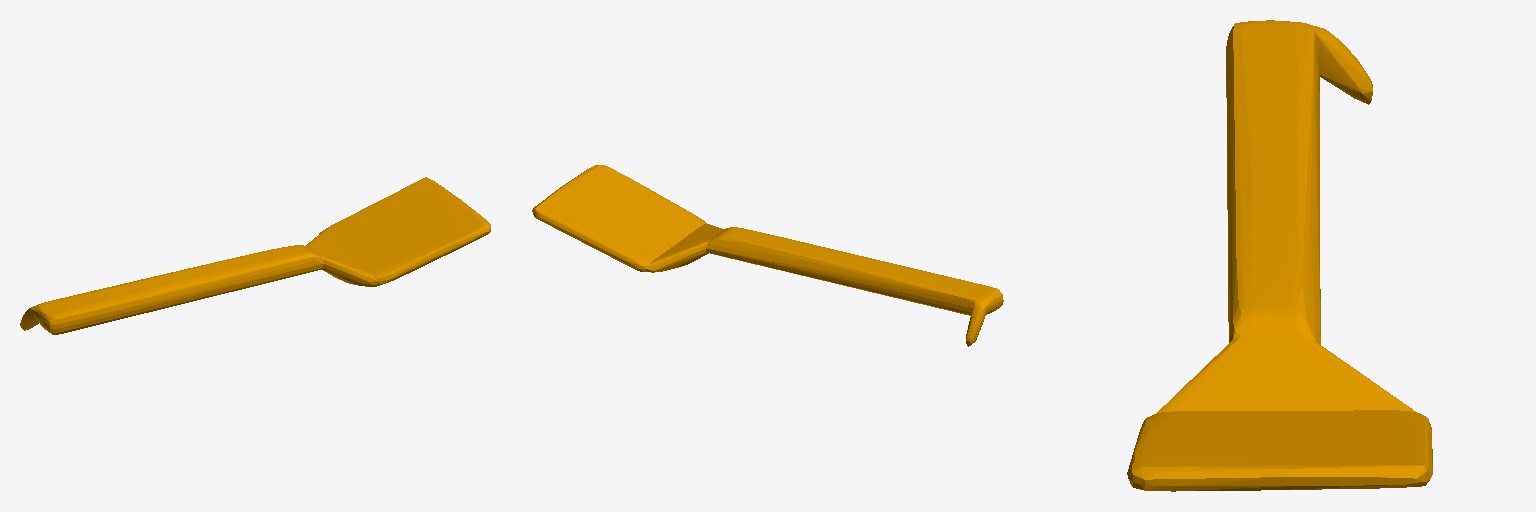
The robot description file, URDF, robot "flat_spatula":
<?xml version='1.0' encoding='utf-8'?>
<robot name="flat_spatula">
  <link name="flat_spatula">
    <visual>
      <origin xyz="0 0 0" rpy="0 0 0" />
      <geometry>
        <mesh filename="flat_spatula.obj" scale="1.0 1.0 1.0" />
      </geometry>
    </visual>
    <collision>
      <origin xyz="0 0 0" rpy="0 0 0" />
      <geometry>
        <mesh filename="flat_spatula_collision/decomp_0.obj" scale="1 1 1" />
      </geometry>
    </collision>
    <collision>
      <origin xyz="0 0 0" rpy="0 0 0" />
      <geometry>
        <mesh filename="flat_spatula_collision/decomp_1.obj" scale="1 1 1" />
      </geometry>
    </collision>
    <collision>
      <origin xyz="0 0 0" rpy="0 0 0" />
      <geometry>
        <mesh filename="flat_spatula_collision/decomp_2.obj" scale="1 1 1" />
      </geometry>
    </collision>
    <collision>
      <origin xyz="0 0 0" rpy="0 0 0" />
      <geometry>
        <mesh filename="flat_spatula_collision/decomp_3.obj" scale="1 1 1" />
      </geometry>
    </collision>
    <collision>
      <origin xyz="0 0 0" rpy="0 0 0" />
      <geometry>
        <mesh filename="flat_spatula_collision/decomp_4.obj" scale="1 1 1" />
      </geometry>
    </collision>
    <inertial>
      <origin xyz="0.0803084 -0.000664842 -0.000343365" rpy="0 0 0" />
      <mass value="0.0753147" />
      <inertia ixx="2.84613e-05" ixy="-5.84007e-06" ixz="3.29707e-06" iyy="0.000818275" iyz="1.33329e-07" izz="0.000840317" />
    </inertial>
  </link>
</robot>

--- What the picture shows (computed from the rendered views, not written in the file) ---
The picture shows the robot from 3 angles, left to right: view 1: azimuth 30°, elevation 25°; view 2: azimuth 150°, elevation 25°; view 3: azimuth 270°, elevation 25°; orthographic projection.
Robot: flat_spatula — 1 links, 0 joints (none); root link flat_spatula; default pose: all joints at 0.
Links seen in each view (by area): view 1: flat_spatula; view 2: flat_spatula; view 3: flat_spatula.
Boxes of the visible links, x1,y1,x2,y2 form: flat_spatula: (20,177,490,334); flat_spatula: (532,165,1003,346); flat_spatula: (1127,20,1432,491).
Size in the robot's own frame: 0.3522 by 0.0959 by 0.035 metres.
1 mesh visuals loaded from 1 distinct referenced files (1 OBJ).
